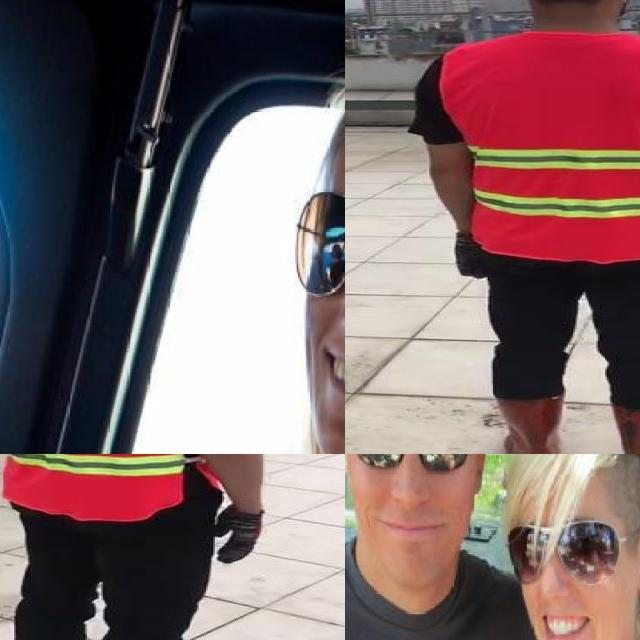boots: (491, 396, 562, 454)
face_nomask: (345, 454, 480, 551), (517, 524, 623, 640), (299, 193, 345, 422)
glasses: (500, 515, 640, 586), (299, 182, 345, 317), (345, 454, 487, 479)
hand_glove: (209, 508, 263, 565), (454, 233, 489, 281)
head_nohelmet: (507, 454, 640, 500)
person: (406, 0, 640, 454), (0, 454, 284, 640), (345, 454, 545, 640), (476, 454, 640, 640)
vest: (439, 33, 640, 262), (0, 454, 213, 521)
